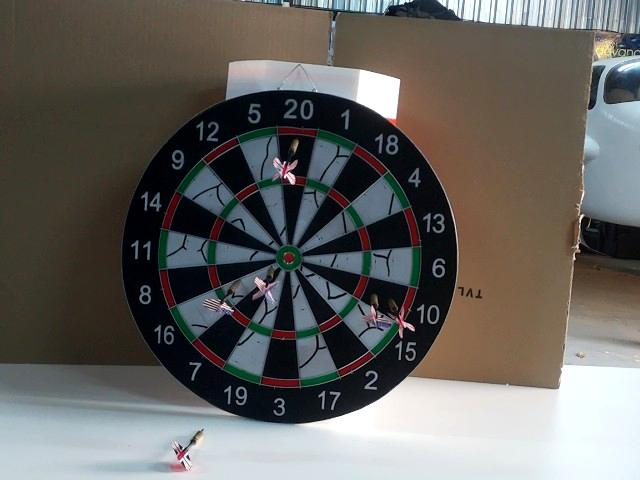miss: (170, 423, 210, 476)
single_10: (373, 281, 410, 316)
single_16: (220, 266, 275, 307)
single_20: (282, 138, 312, 174)
